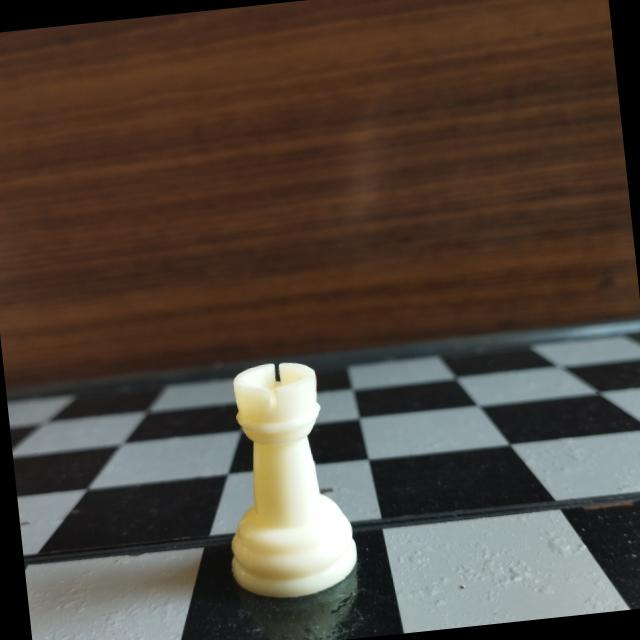White Rook: (205, 348, 371, 608)
